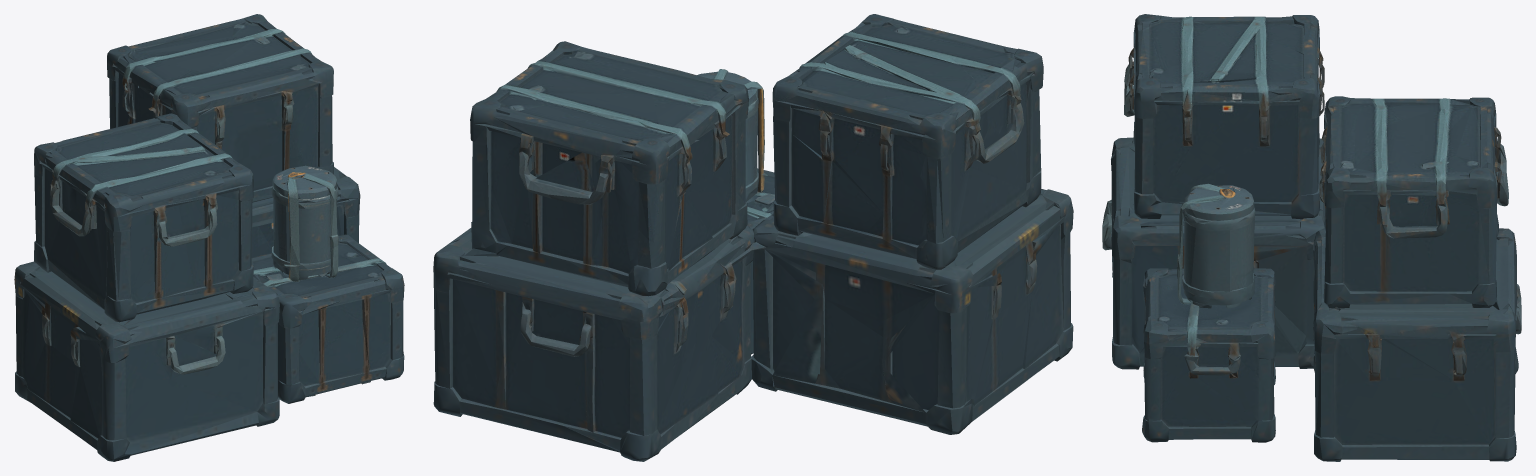
The model's file is web.glb.
3 views of the same model, side by side, from view 1: azimuth 30°, elevation 25°; view 2: azimuth 150°, elevation 25°; view 3: azimuth 270°, elevation 25° (orthographic). The views are drawn at different scales.
Parts seen in each view (by area): view 1: output_unwrapped; view 2: output_unwrapped; view 3: output_unwrapped.
Part boxes in pixels (x1=…): output_unwrapped: x1=14, y1=14, x2=404, y2=461; output_unwrapped: x1=433, y1=14, x2=1073, y2=461; output_unwrapped: x1=1102, y1=14, x2=1521, y2=461.
Size of the model in its own units: 1.9 by 1.3 by 1.79.
Materials: 1 (1 with a texture image).
